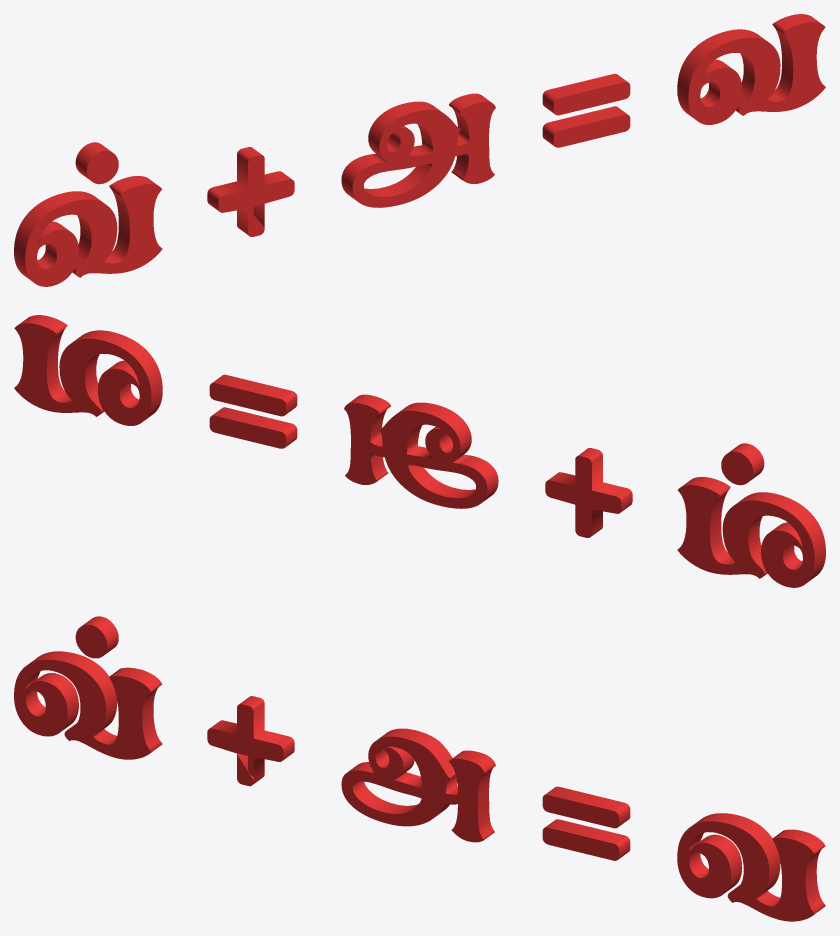
The picture shows the model from 3 angles, top to bottom: view 1: azimuth 30°, elevation 25°; view 2: azimuth 150°, elevation 25°; view 3: azimuth 330°, elevation 25°; orthographic projection.
Parts seen in each view (by area): view 1: va; view 2: va; view 3: va.
Boxes of the visible parts, <box> form: va: <box>14,14,825,286</box>; va: <box>14,315,825,587</box>; va: <box>14,616,825,921</box>.
Size of the model in its own units: 0.1786 by 0.0271 by 0.00431.
